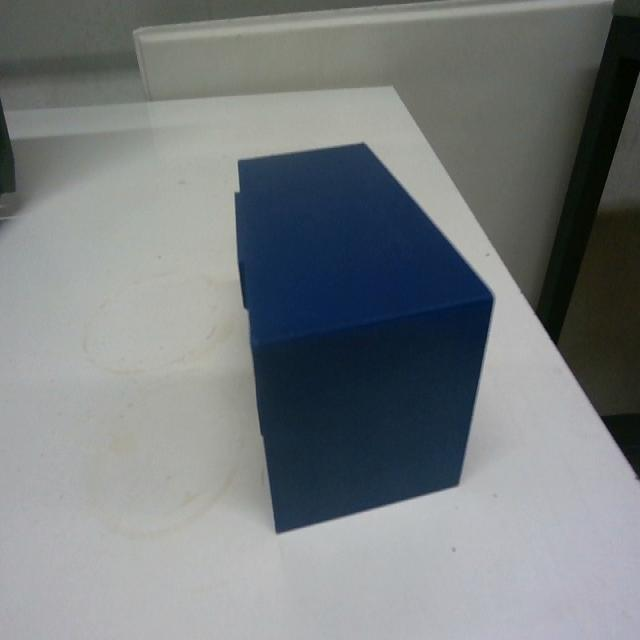Blue Cuboid: (230, 137, 496, 534)
